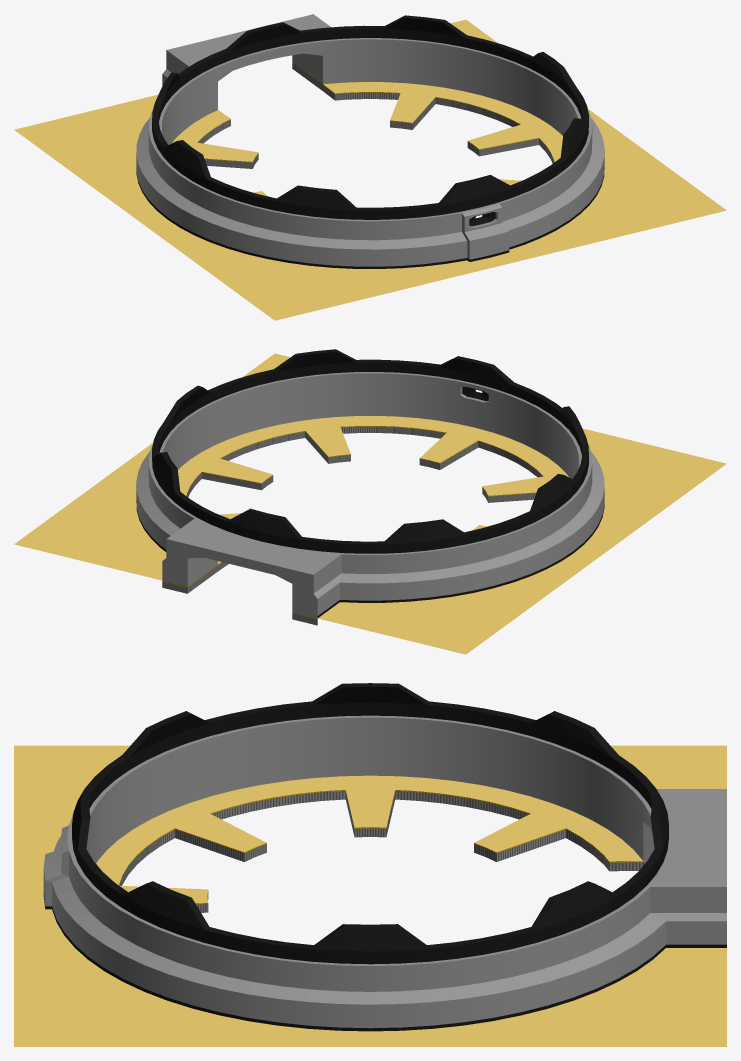
Rendered from SM_Marina.FBX.
3 renders of one model, top to bottom at view 1: azimuth 30°, elevation 25°; view 2: azimuth 150°, elevation 25°; view 3: azimuth 270°, elevation 25°, orthographic. The views are drawn at different scales.
Parts seen in each view (by area): view 1: Object; view 2: Object; view 3: Object.
Part boxes in pixels (box(x1,y1,x2,y2)): Object: box(14, 14, 726, 320); Object: box(14, 349, 726, 654); Object: box(14, 683, 726, 1046).
Bounding box in the file's own units: 200000 × 31011 × 200000.
Materials: 4 (1 with a texture image).
